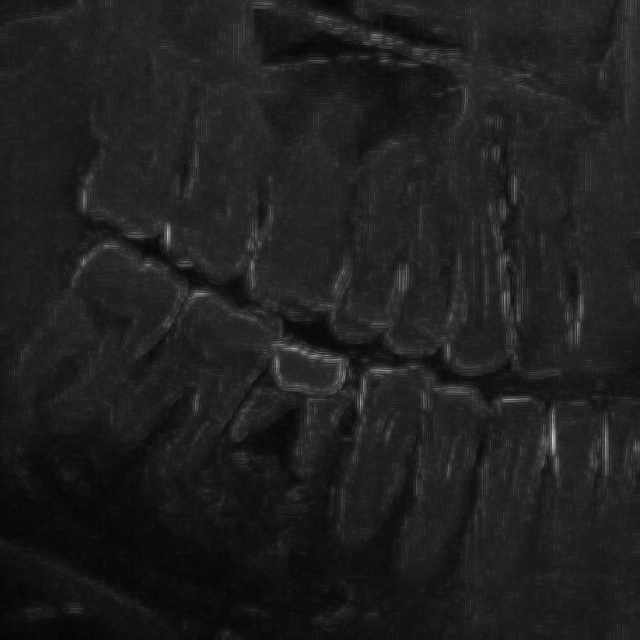Class 2- incomplete endodontic treatment: (208, 276, 385, 530)
